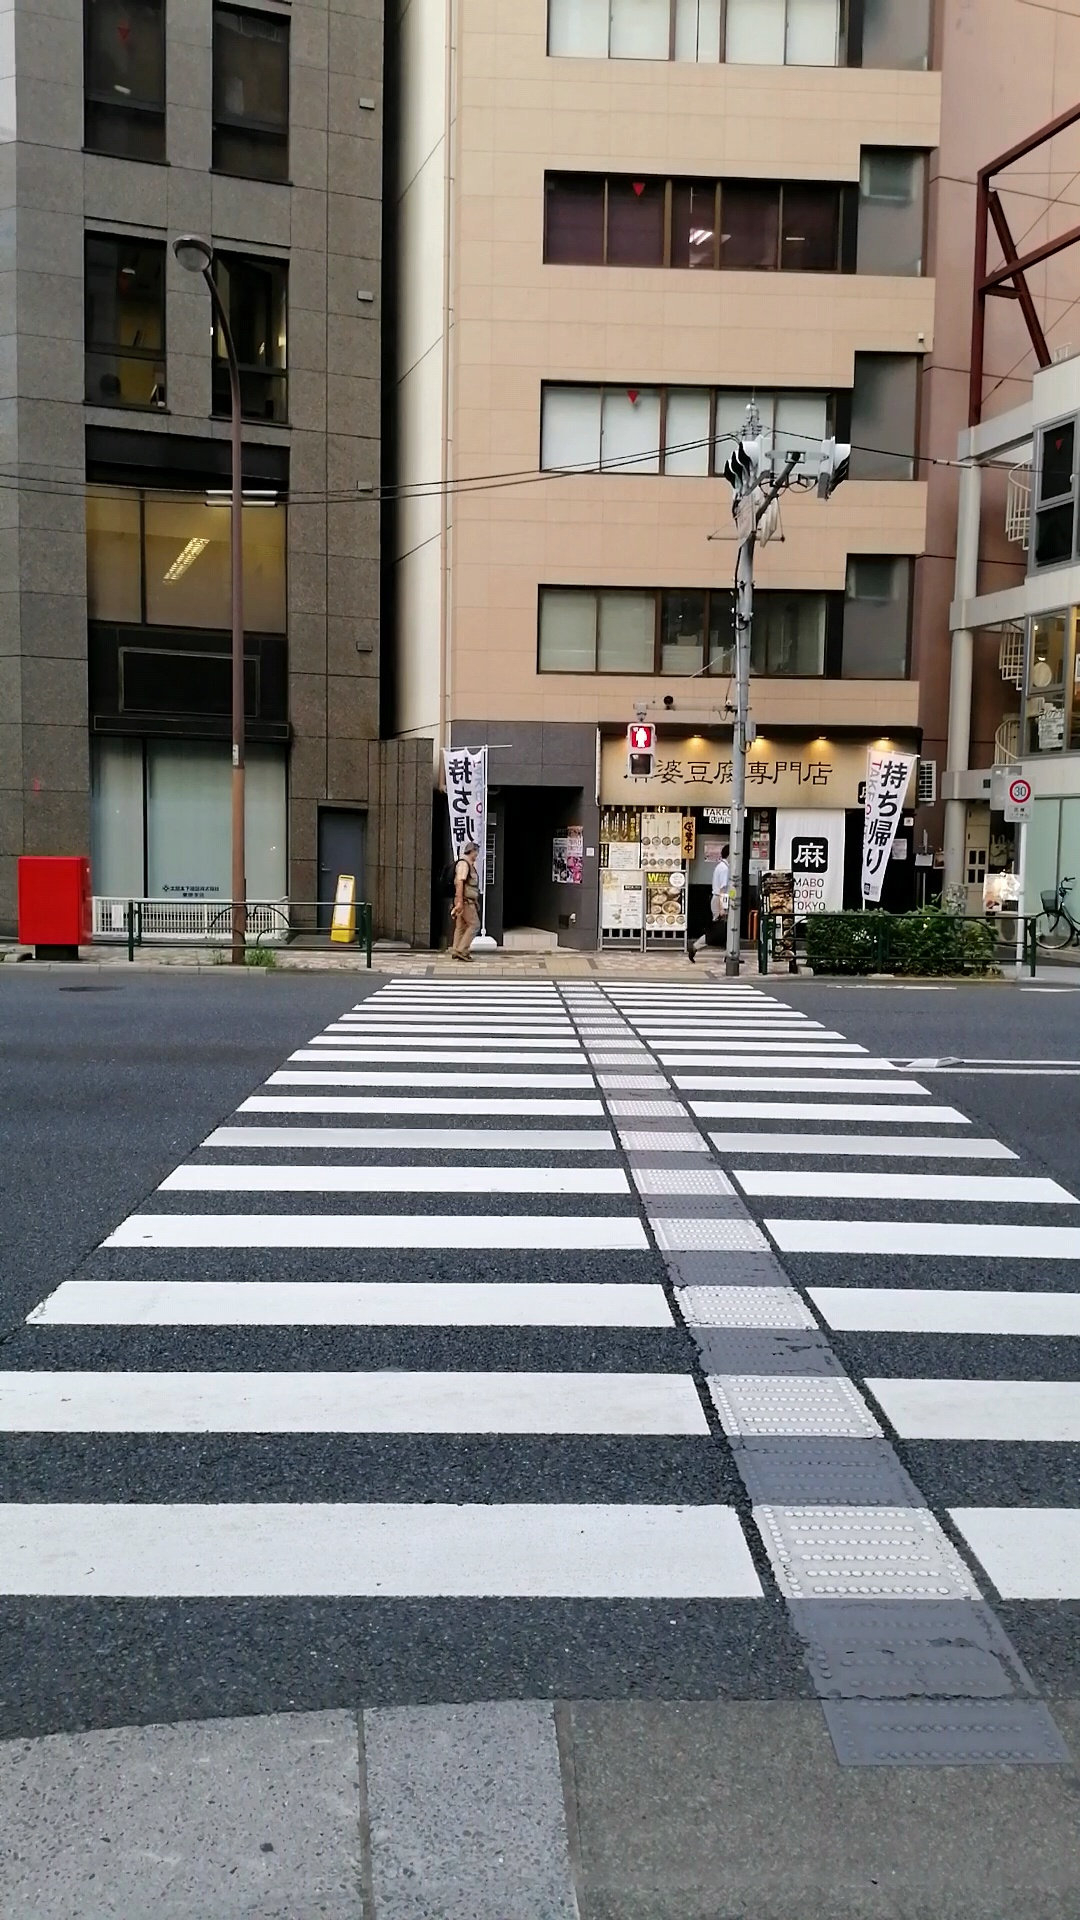red: (626, 721, 655, 778)
